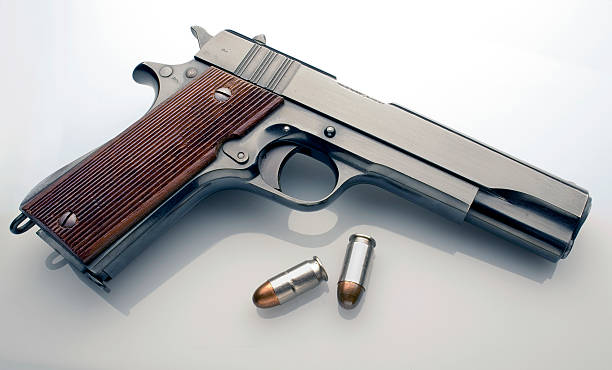pistol: (11, 16, 592, 295)
